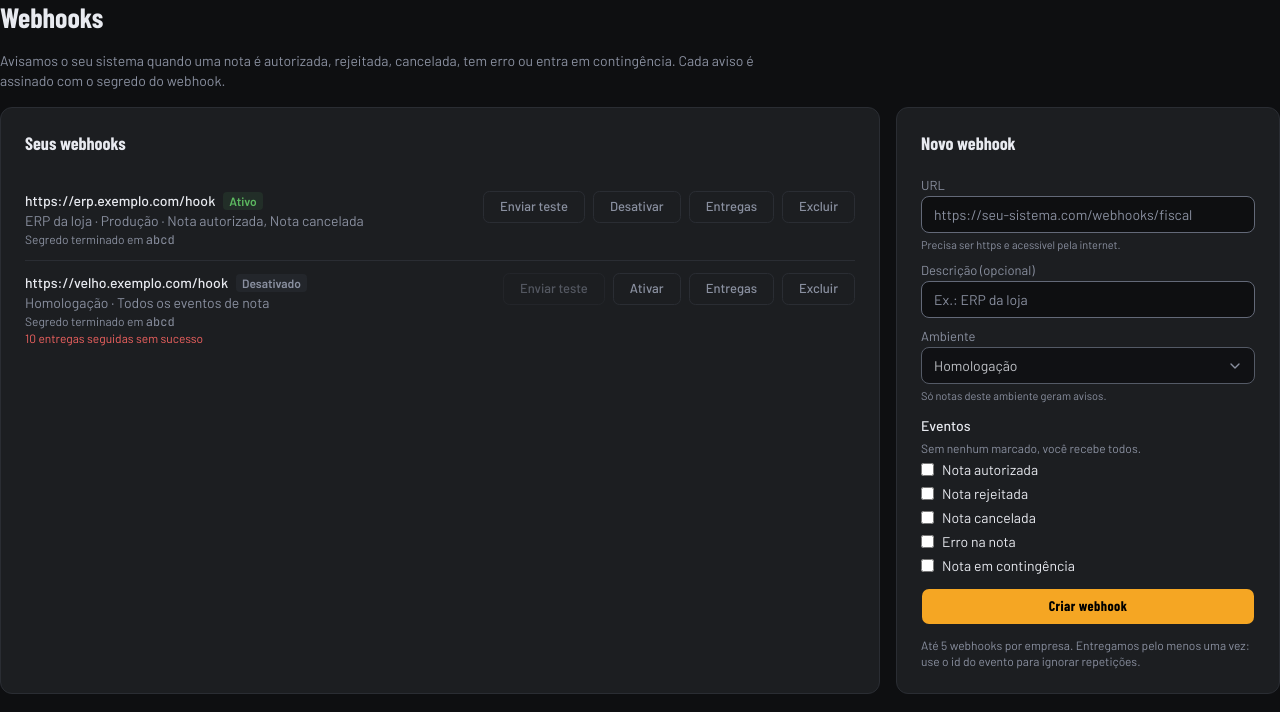
Test case: webhooks › teste que falha aparece em alerta com o motivo
This screenshot has width=1280, height=712.
Click the button with aria-label "Enviar teste para https://erp.exemplo.com/hook": [534, 206] box [483,190,585,222]
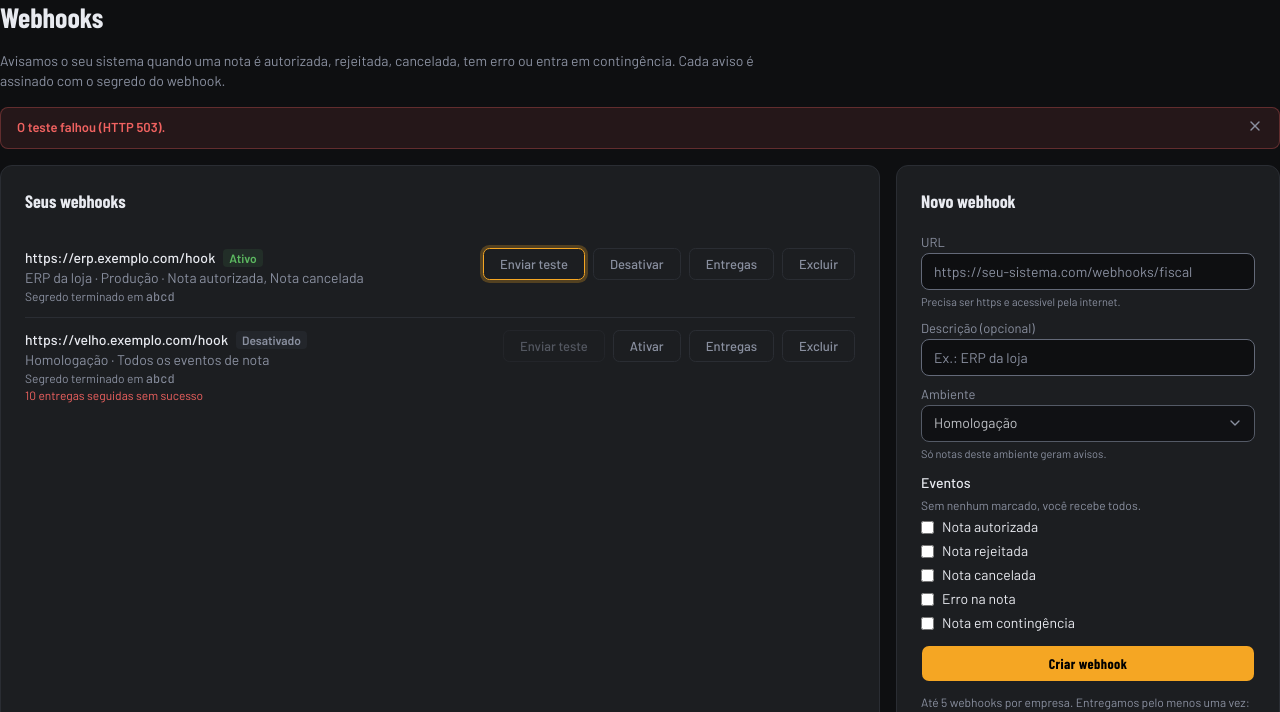
Result: the message shows "O teste falhou (HTTP 503)" at [0,107,1279,148]
